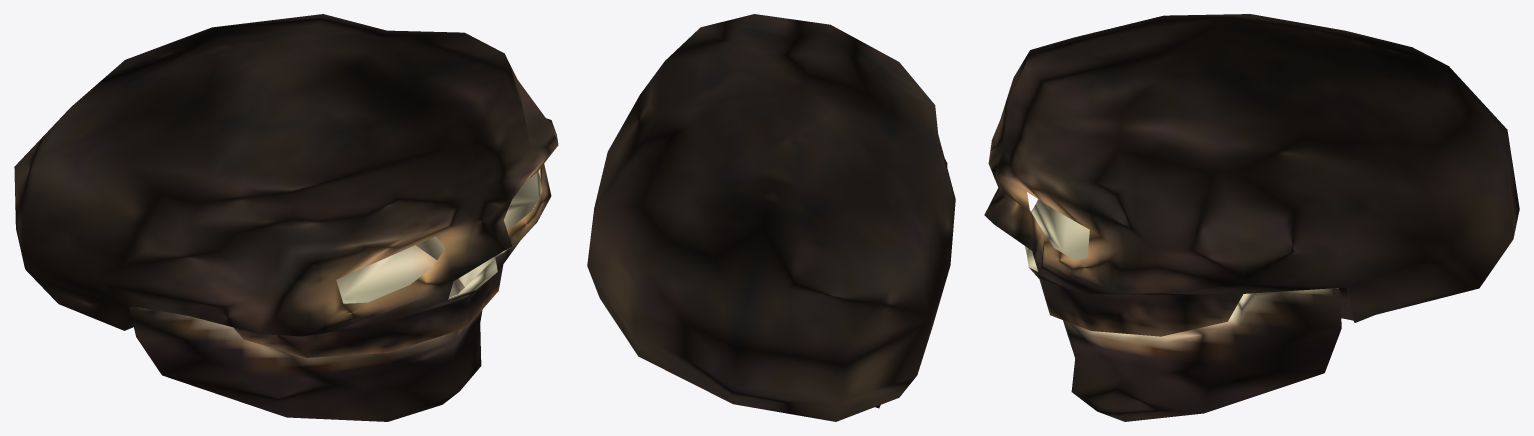
File: fireboulder-lod0.glb
3 renders of one model, left to right at view 1: azimuth 30°, elevation 25°; view 2: azimuth 150°, elevation 25°; view 3: azimuth 270°, elevation 25°, orthographic. The views are drawn at different scales.
Visible parts, largest first — view 1: mesh0; view 2: mesh0; view 3: mesh0.
Part boxes in pixels (bbox=[...]): mesh0: bbox=[14, 14, 558, 421]; mesh0: bbox=[587, 14, 955, 421]; mesh0: bbox=[984, 14, 1519, 421].
Bounding box in the file's own units: 10.1 × 8.08 × 10.86.
1 material, 1 textured.
